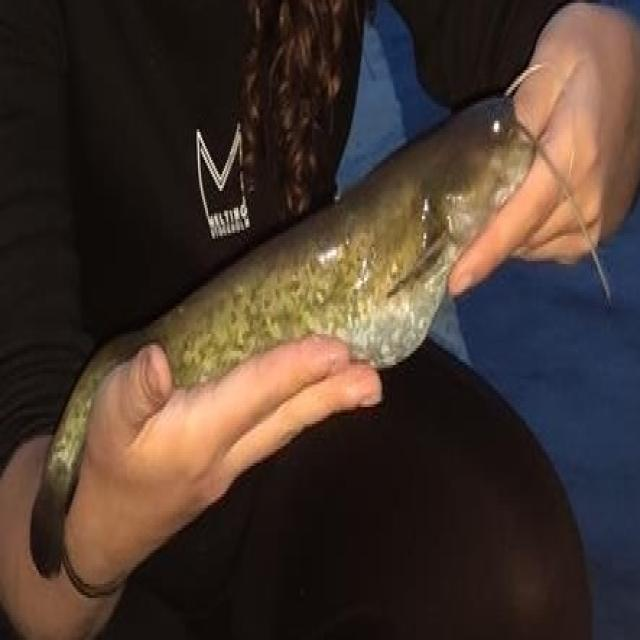Catfish: (15, 79, 542, 572)
